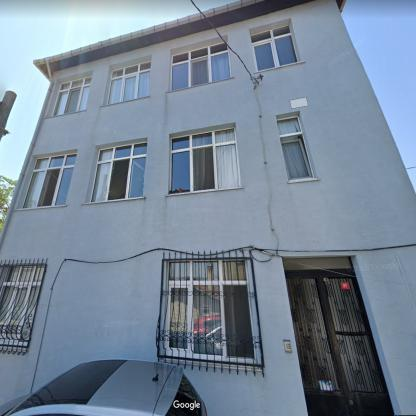door: (286, 270, 391, 414)
window: (170, 260, 254, 361), (170, 128, 239, 194), (1, 264, 44, 342), (90, 143, 146, 201), (23, 153, 76, 207), (172, 42, 230, 90), (277, 118, 314, 180), (251, 25, 298, 71), (108, 61, 150, 104), (53, 75, 92, 115), (286, 257, 349, 270)
